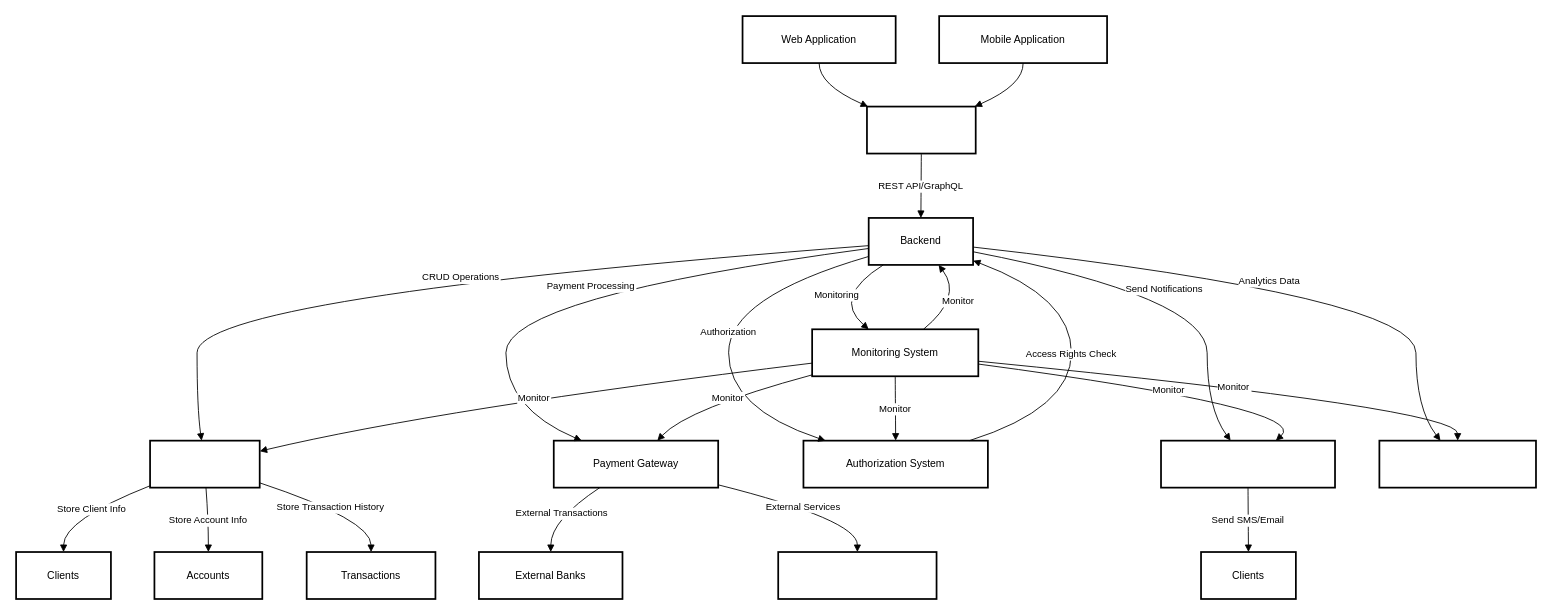
The diagram is 1551 pixels wide and 614 high, and some of its shapes have lost their labels. Each missing label, with the centre of its shape:
Analytics Module: point 1457,463
Database: point 204,463
Frontend: point 921,129
Notification System: point 1247,463
Service Providers: point 857,575
